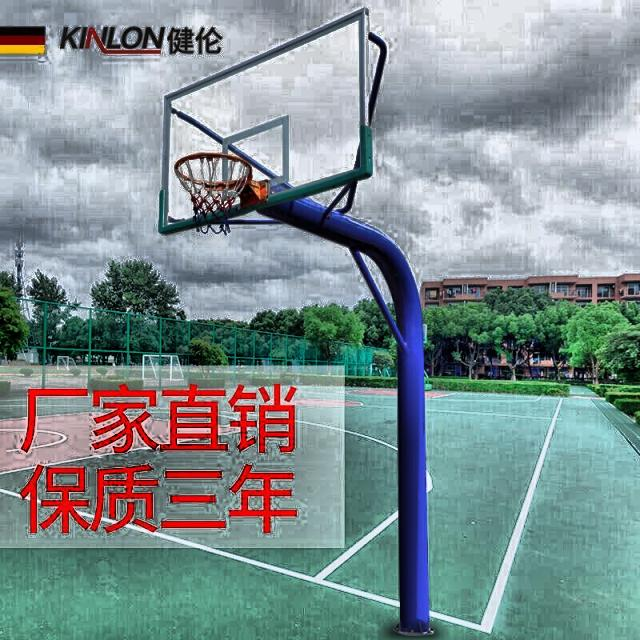rim: (173, 152, 253, 236)
